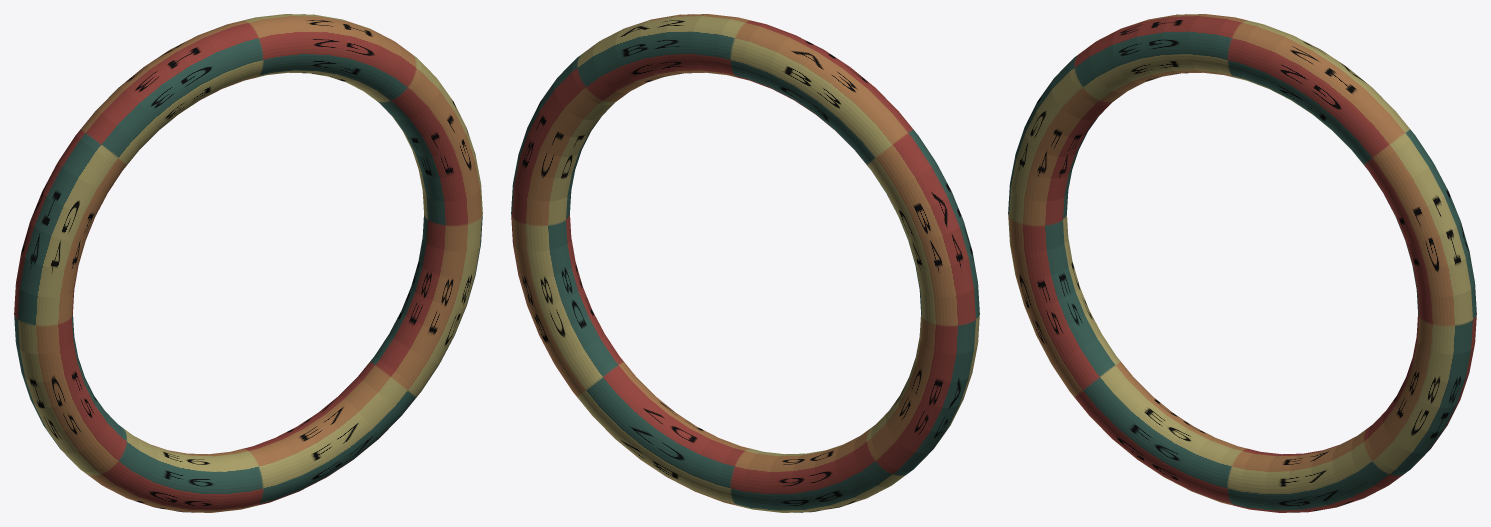
The model's file is texture_torus_R22_r4.glb.
3 views of the same model, side by side, from view 1: azimuth 30°, elevation 25°; view 2: azimuth 150°, elevation 25°; view 3: azimuth 330°, elevation 25° (orthographic).
Visible parts, largest first — view 1: world; view 2: world; view 3: world.
Part boxes in pixels (x1=…): world: x1=14, y1=14, x2=482, y2=512; world: x1=511, y1=14, x2=979, y2=512; world: x1=1008, y1=14, x2=1476, y2=512.
Size of the model in its own units: 27.73 by 27.68 by 3.06.
Materials: 1 (1 with a texture image).
